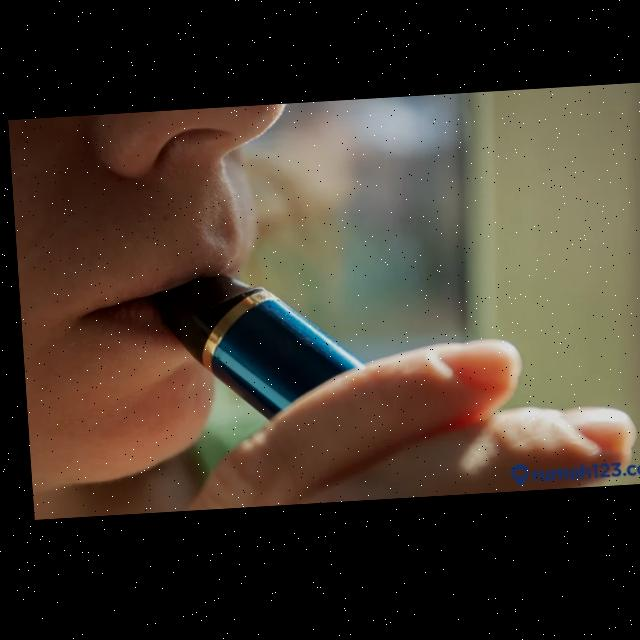vape: (143, 272, 361, 431)
